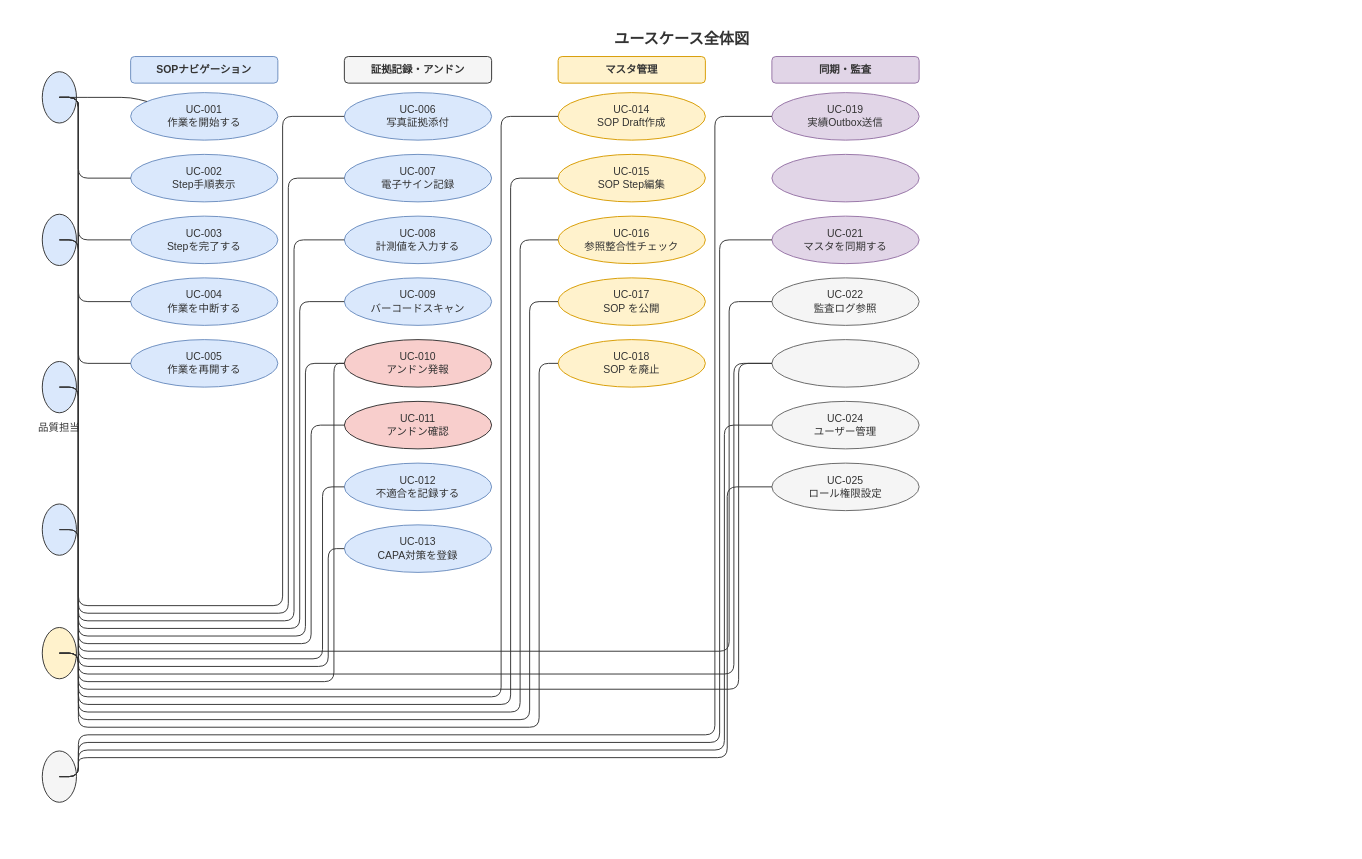
The diagram is 1362 pixels wide and 859 high, and some of its shapes have lost their labels. Here are the shapes that lost their labels. From the top down, the box of each, then its label:
(39, 68, 78, 126): 作業員
(771, 153, 919, 202): UC-020 ERPへ実績連携
(39, 210, 78, 268): 現場監督
(771, 339, 919, 387): UC-023 帳票を出力する
(39, 500, 78, 558): 保全担当
(39, 624, 78, 682): マスタ 編集者
(39, 747, 78, 805): IT担当
